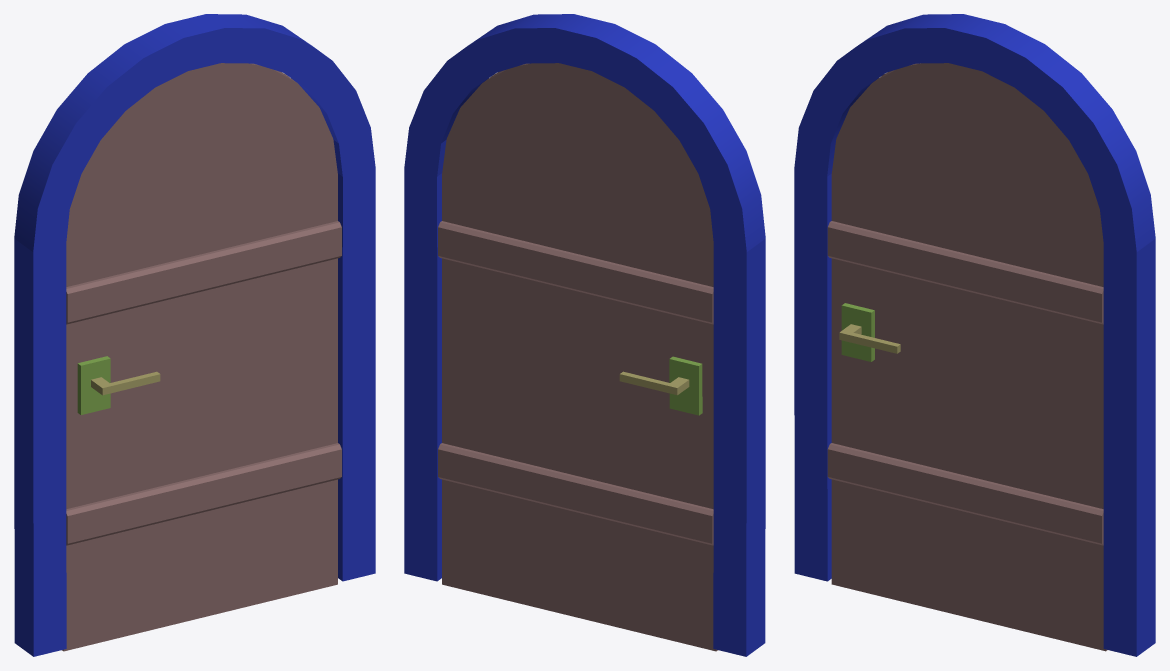
Rendered from Door2.fbx.
3 views of the same model, side by side, from view 1: azimuth 30°, elevation 25°; view 2: azimuth 150°, elevation 25°; view 3: azimuth 330°, elevation 25° (orthographic).
Parts seen in each view (by area): view 1: pCube4, pCube7, pCube5, pasted__pCube5; view 2: pCube4, pCube7, pCube6, pasted__pCube6; view 3: pCube4, pCube7, pCube5, pasted__pCube5.
Boxes of the visible parts, bbox=[...] form: pCube4: bbox=[62, 63, 341, 651]; pCube7: bbox=[14, 14, 375, 656]; pCube5: bbox=[77, 356, 110, 414]; pasted__pCube5: bbox=[91, 371, 160, 395]; pCube4: bbox=[438, 63, 717, 651]; pCube7: bbox=[404, 14, 765, 656]; pCube6: bbox=[669, 356, 702, 415]; pasted__pCube6: bbox=[619, 371, 689, 395]; pCube4: bbox=[827, 63, 1107, 651]; pCube7: bbox=[794, 14, 1155, 656]; pCube5: bbox=[841, 303, 874, 361]; pasted__pCube5: bbox=[839, 324, 900, 353].
Bounding box in the file's own units: 1.41 × 2.32 × 0.3092.
